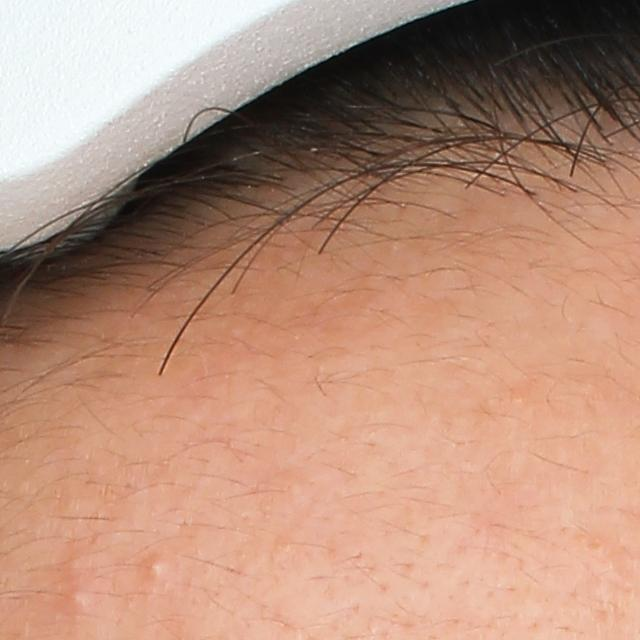comedo: (141, 552, 174, 579), (67, 589, 87, 608)
